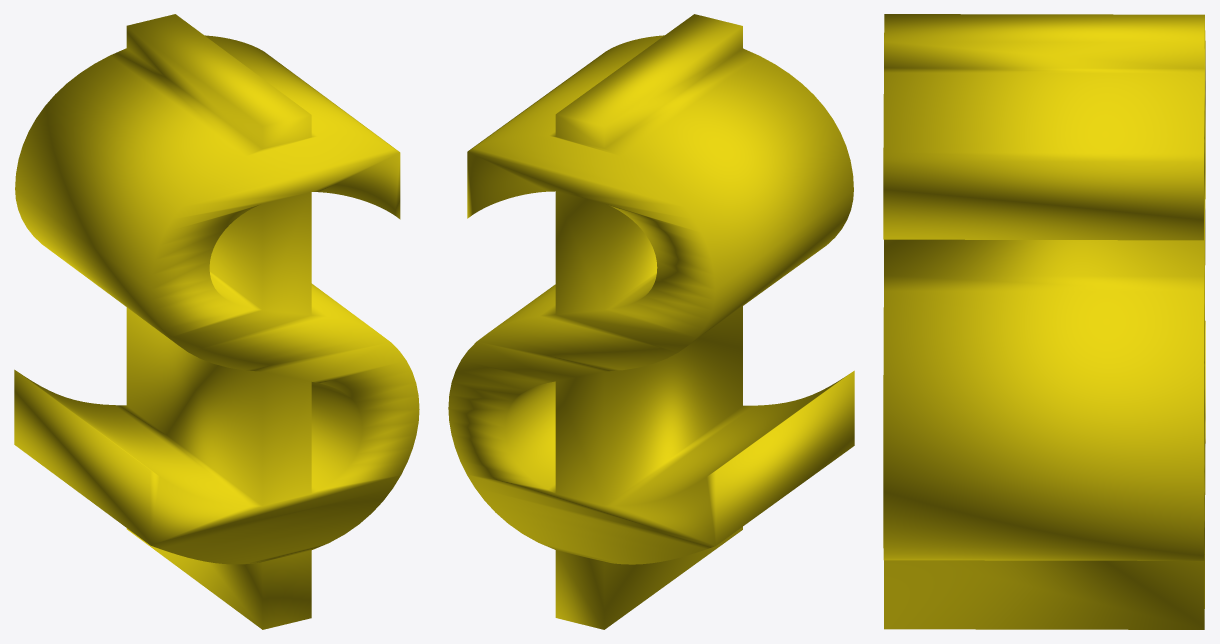
The model's file is Scores.fbx.
3 views of the same model, side by side, from view 1: azimuth 30°, elevation 25°; view 2: azimuth 150°, elevation 25°; view 3: azimuth 270°, elevation 25° (orthographic). The views are drawn at different scales.
Parts seen in each view (by area): view 1: Цилиндр.002; view 2: Цилиндр.002; view 3: Цилиндр.002.
Boxes of the visible parts, bbox=[...] form: Цилиндр.002: bbox=[14, 14, 419, 629]; Цилиндр.002: bbox=[448, 14, 854, 629]; Цилиндр.002: bbox=[883, 14, 1205, 629].
Size of the model in its own units: 10.81 by 19.31 by 9.6.
